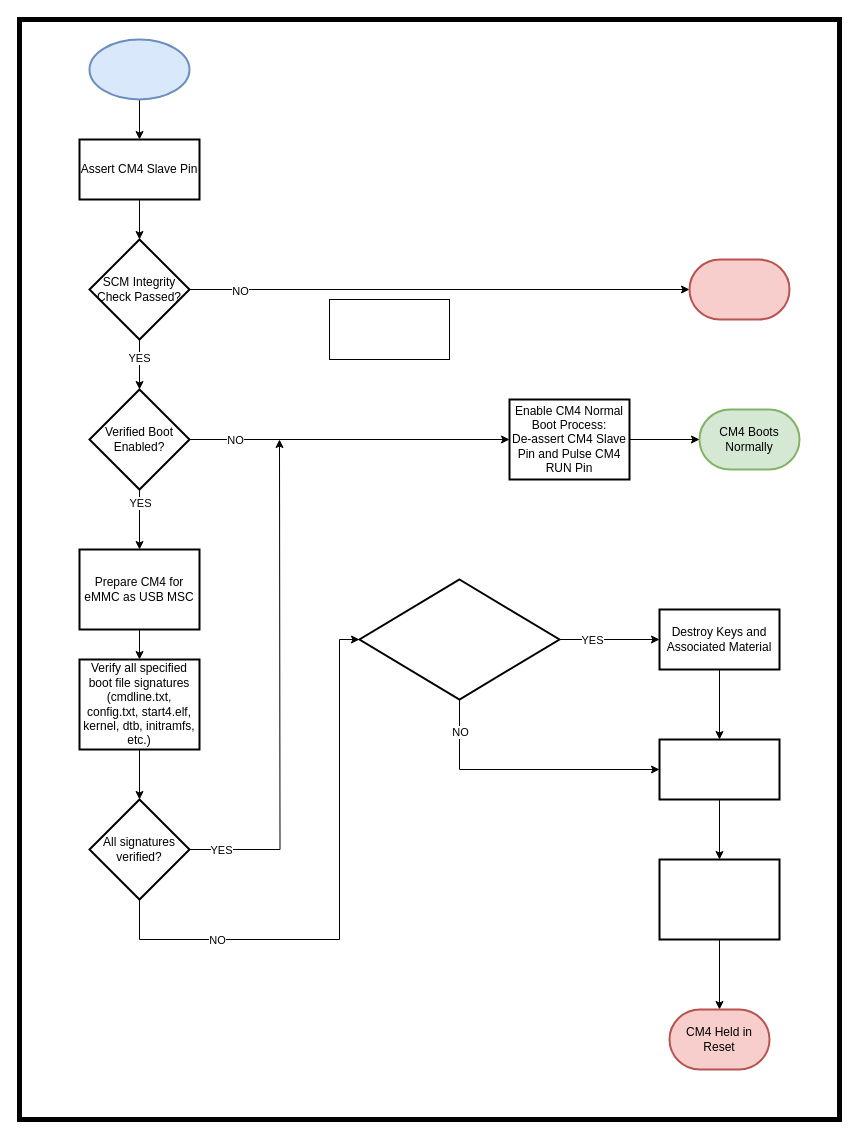
This 859x1139 diagram has some shape labels left out. The shapes that lost their labels are listed below. From the top down, each one's centre as x and y in pixels, then its label:
At [139,69]: "SCM Power Cycle".
At [739,289]: "FAIL: remain in idle state".
At [459,639]: "Verified Boot Fail Policy = DESTROY_KEYS?".
At [719,769]: "Log Verified Boot Failure".
At [719,899]: "Prohibit CM4 Boot: De-assert CM4 RUN Pin".
